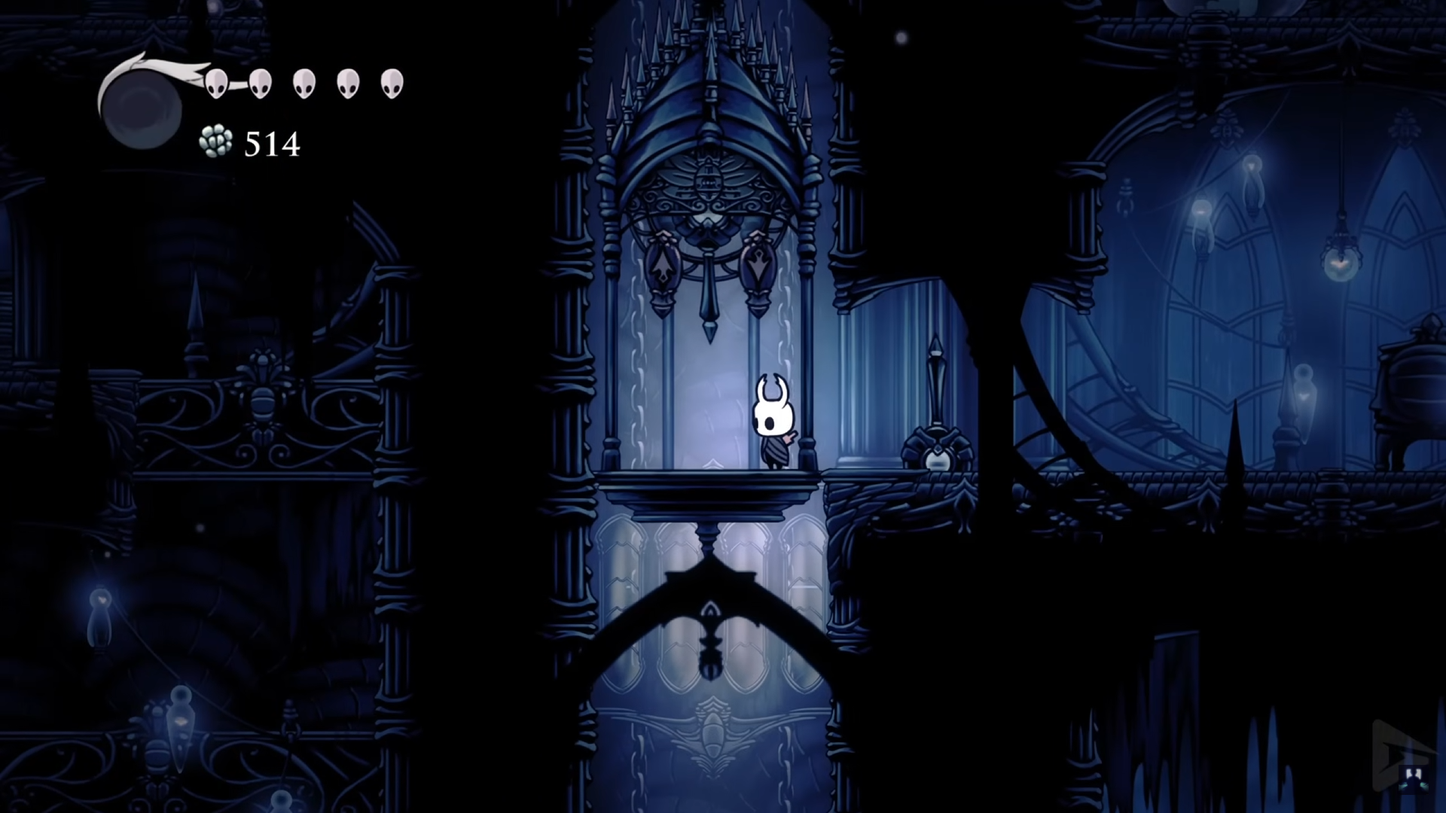HK: (746, 369, 806, 469)
